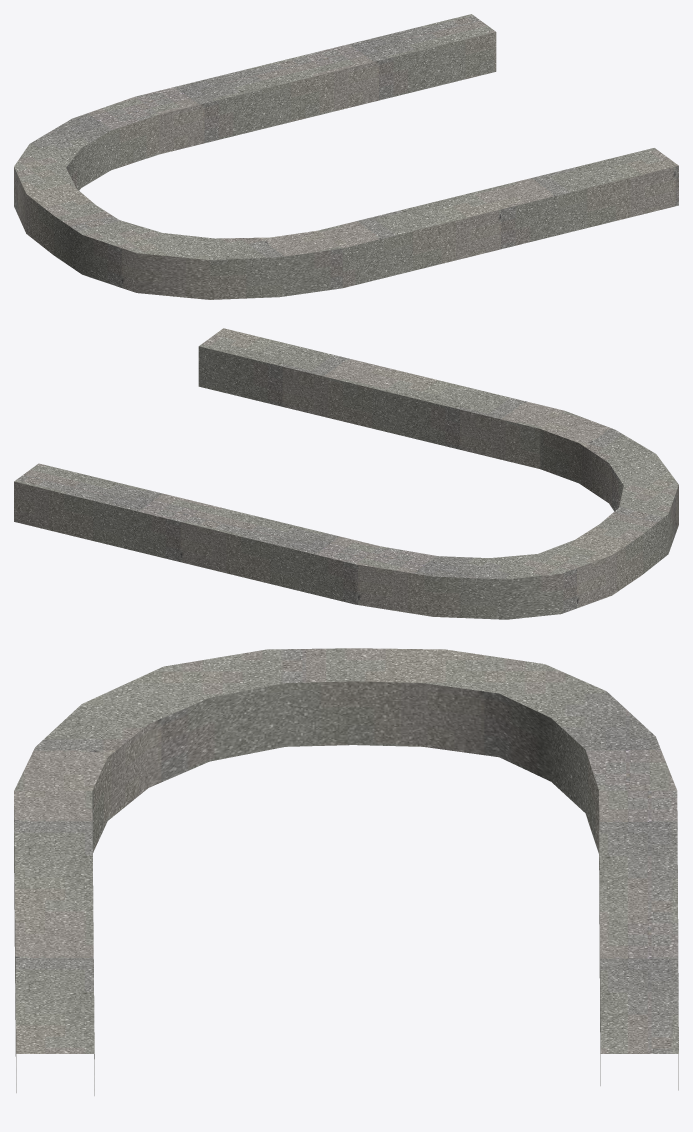
Rendered from veredacentralcurva.fbx.
3 views of the same model, one above another, from view 1: azimuth 30°, elevation 25°; view 2: azimuth 150°, elevation 25°; view 3: azimuth 270°, elevation 25° (orthographic). The views are drawn at different scales.
Parts seen in each view (by area): view 1: pCube7; view 2: pCube7; view 3: pCube7.
Boxes of the visible parts, bbox=[...] form: pCube7: bbox=[14, 14, 678, 299]; pCube7: bbox=[14, 328, 678, 619]; pCube7: bbox=[14, 648, 678, 1095].
Bounding box in the file's own units: 7.89 × 0.5776 × 5.46.
